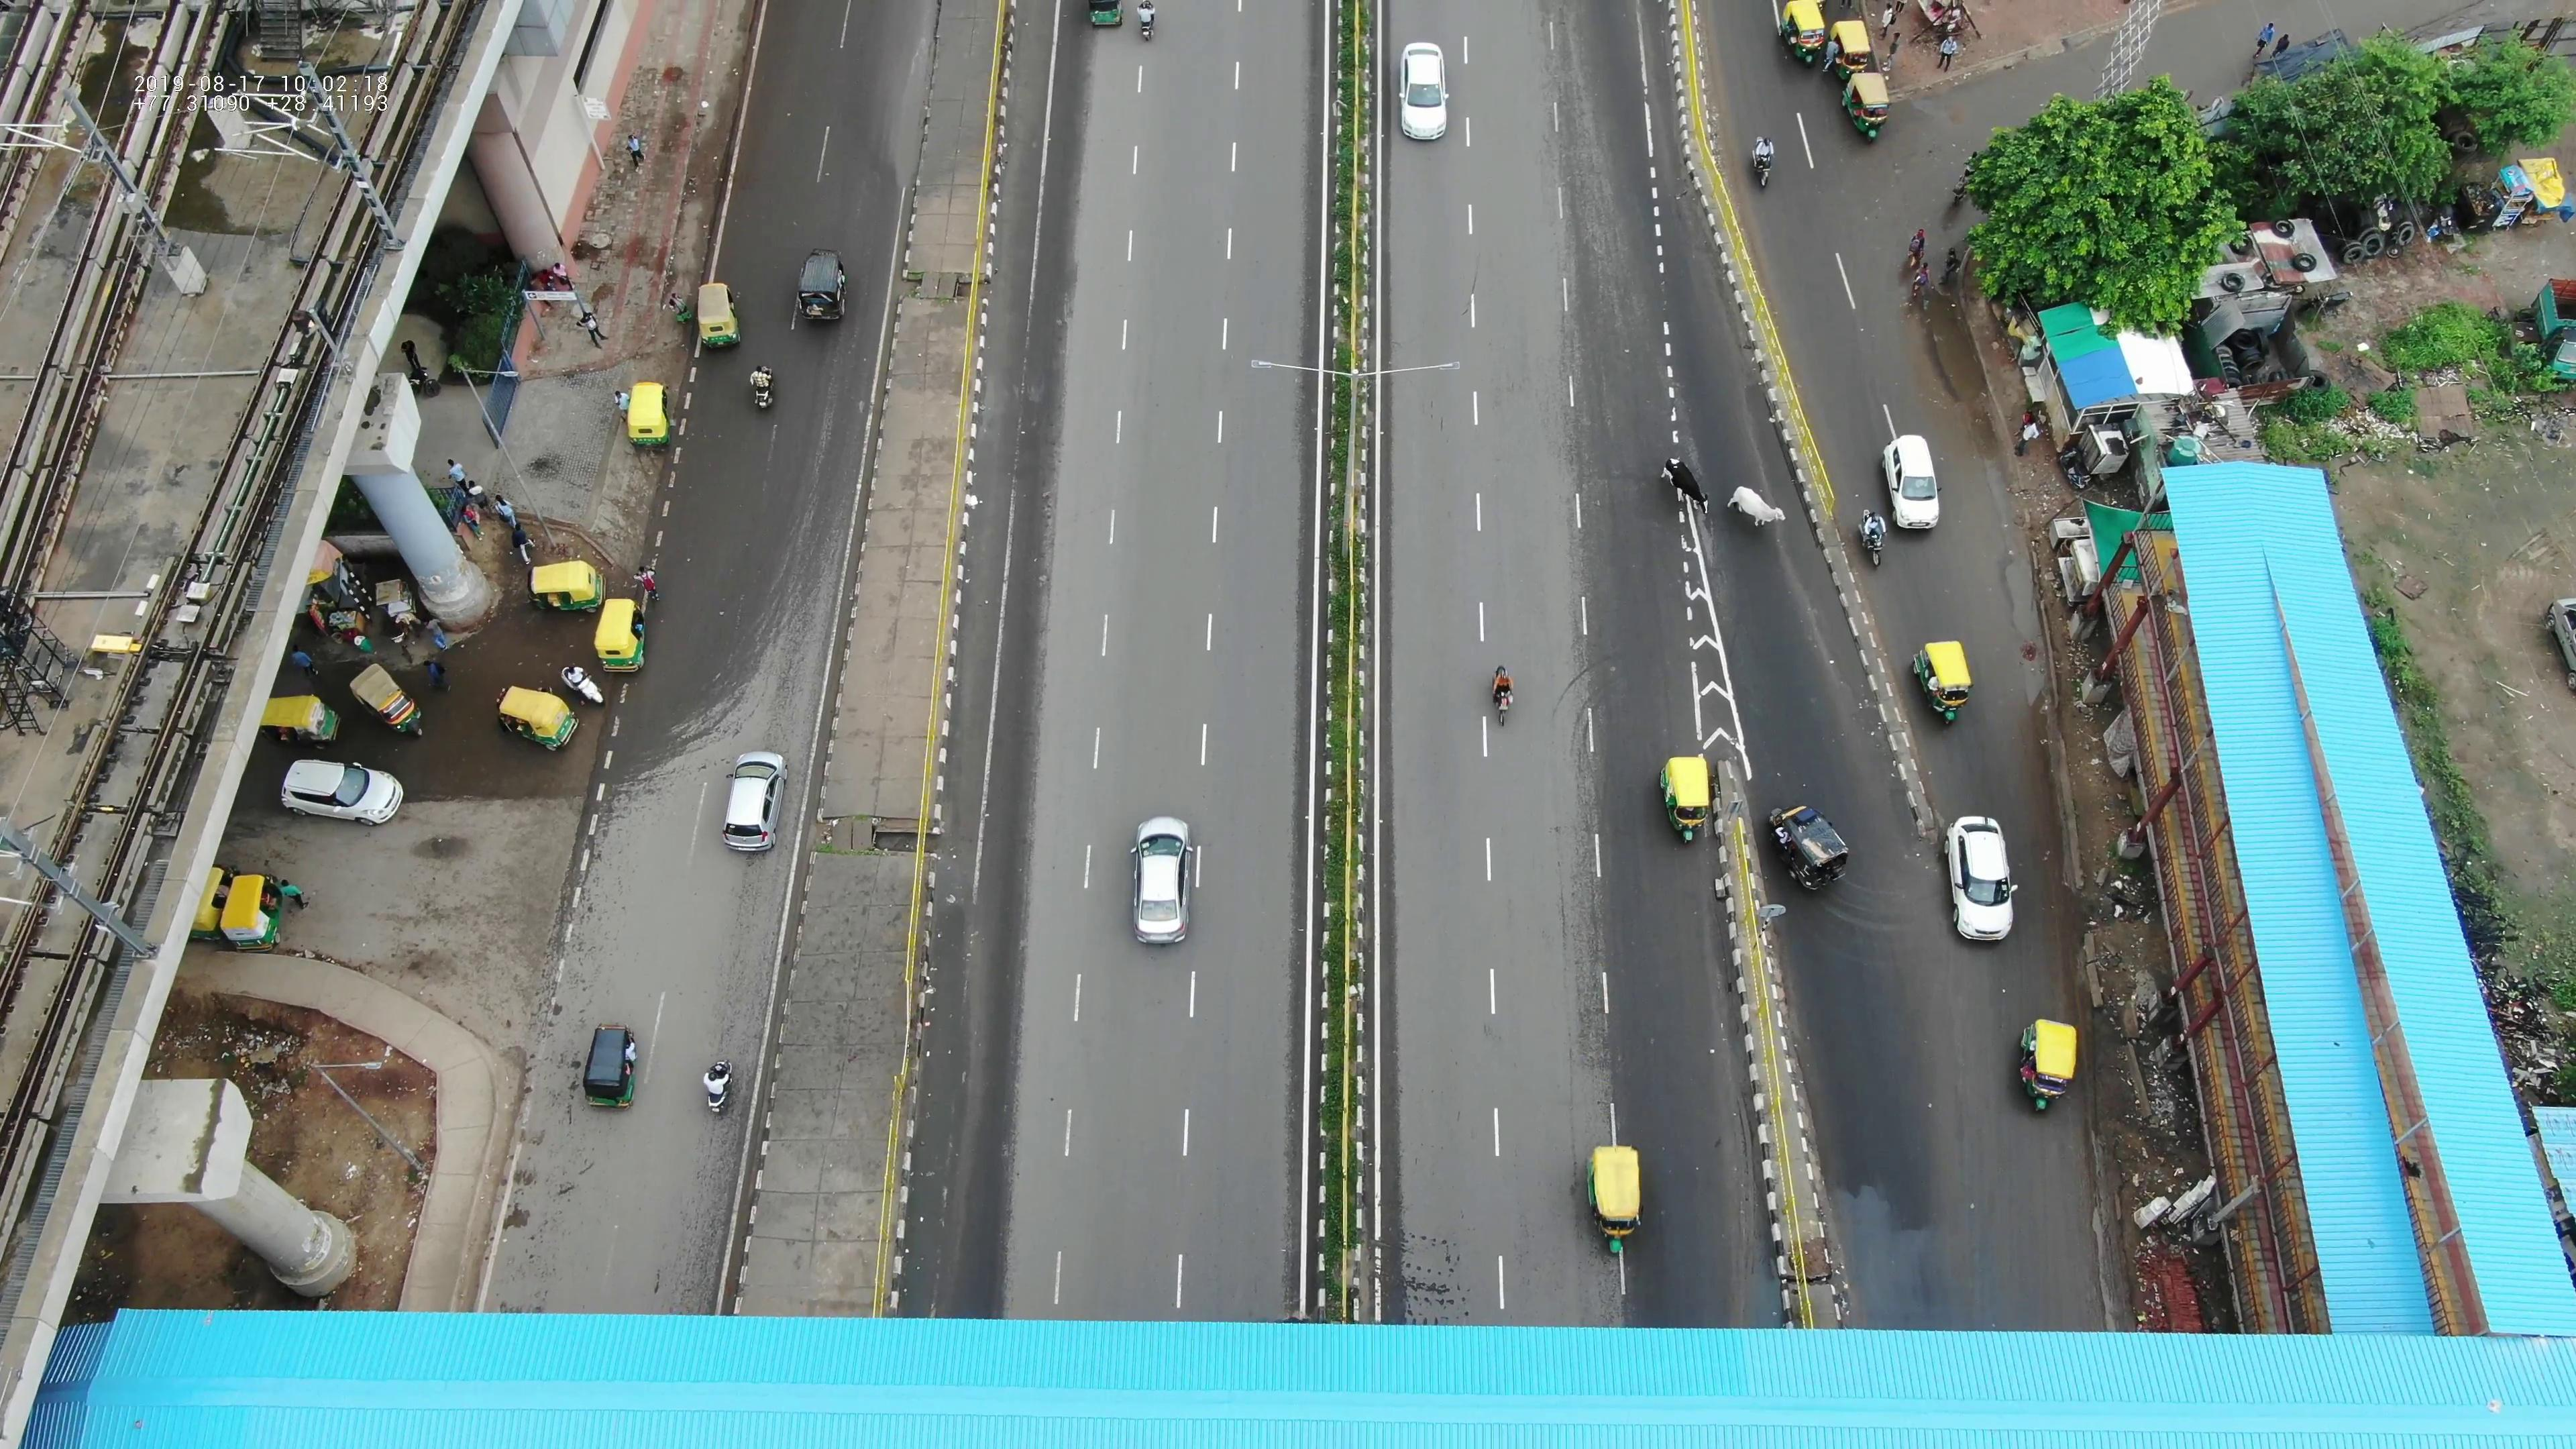Waterlogging: (888, 915, 968, 1277), (1746, 416, 1854, 671), (1921, 297, 1985, 439), (1987, 561, 2042, 686)
